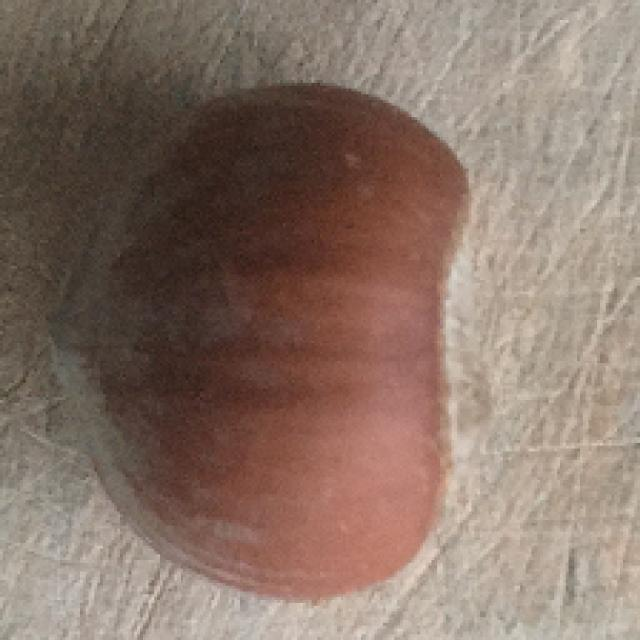qualityHazelnut: (50, 79, 478, 602)
